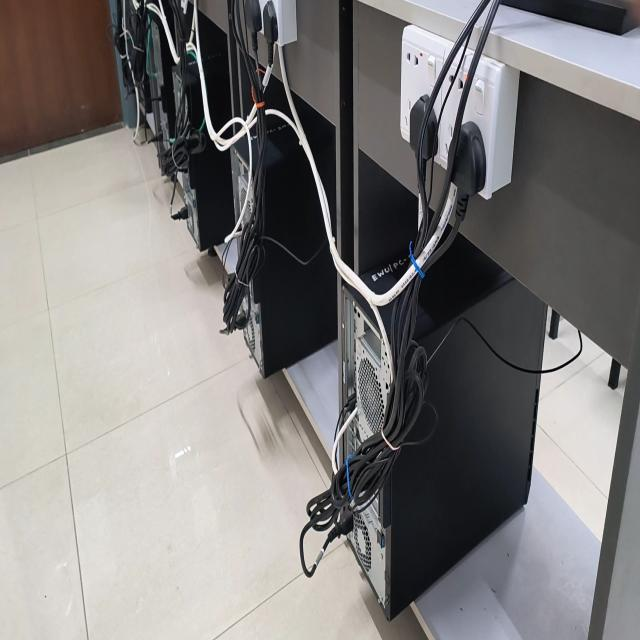Cpu: (348, 276, 546, 620), (237, 116, 337, 377), (338, 286, 390, 464), (179, 130, 234, 251), (293, 94, 336, 228), (185, 55, 204, 129), (231, 140, 248, 219), (165, 56, 181, 119)
